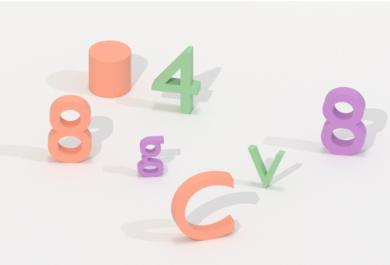0-KhoiTru: (85, 38, 136, 101)
4: (147, 42, 206, 117)
8: (318, 84, 370, 160), (45, 93, 95, 165)
C: (168, 167, 238, 242)
V: (245, 141, 289, 193)
g: (135, 132, 167, 181)
